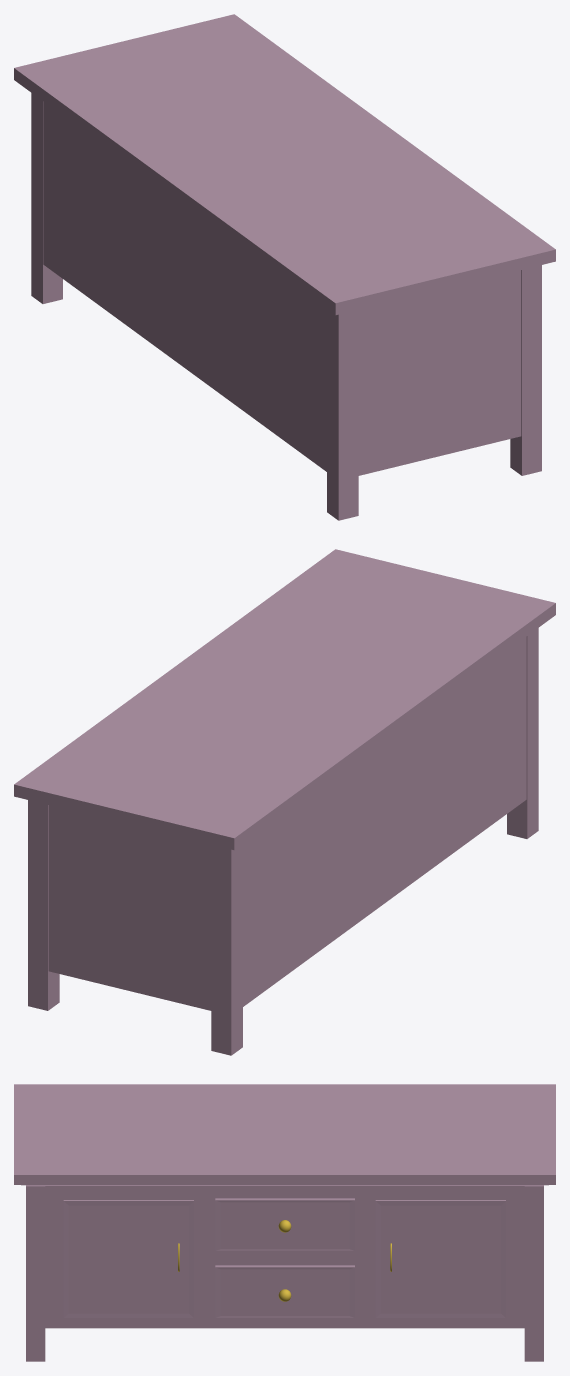
Rendered from comoda.obj.
3 renders of one model, top to bottom at view 1: azimuth 30°, elevation 25°; view 2: azimuth 150°, elevation 25°; view 3: azimuth 270°, elevation 25°, orthographic. The views are drawn at different scales.
Parts seen in each view (by area): view 1: pCube2, pCube5, pCube3, pCube35, pCube34, pCube37; view 2: pCube2, pCube5, pCube4, pCube37, pCube36, pCube35; view 3: pCube2, pCube21, pCube33, pCube32, pCube31, pCube25, pCube36, pCube34, pCube1.
Part boxes in pixels (bbox=[...]): pCube2: bbox=[14, 14, 555, 315]; pCube5: bbox=[43, 102, 326, 471]; pCube3: bbox=[358, 270, 521, 475]; pCube35: bbox=[327, 309, 358, 520]; pCube34: bbox=[510, 265, 541, 475]; pCube37: bbox=[31, 93, 62, 303]; pCube2: bbox=[14, 549, 555, 850]; pCube5: bbox=[243, 637, 526, 1006]; pCube4: bbox=[48, 805, 211, 1010]; pCube37: bbox=[211, 844, 242, 1055]; pCube36: bbox=[28, 800, 59, 1010]; pCube35: bbox=[507, 628, 538, 838]; pCube2: bbox=[14, 1084, 555, 1185]; pCube21: bbox=[45, 1185, 524, 1327]; pCube33: bbox=[63, 1200, 193, 1317]; pCube32: bbox=[375, 1200, 505, 1317]; pCube31: bbox=[215, 1265, 354, 1317]; pCube25: bbox=[215, 1198, 354, 1250]; pCube36: bbox=[524, 1185, 543, 1361]; pCube34: bbox=[26, 1185, 45, 1361]; pCube1: bbox=[45, 1328, 524, 1328].
Bounding box in the file's own units: 1.77 × 1.67 × 4.31.
3 materials, 3 textured.
